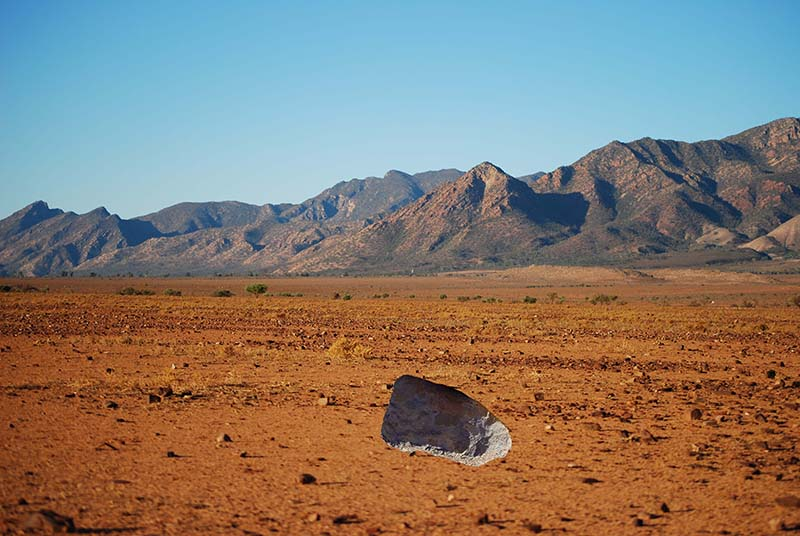Rocks: (378, 365, 519, 470)
